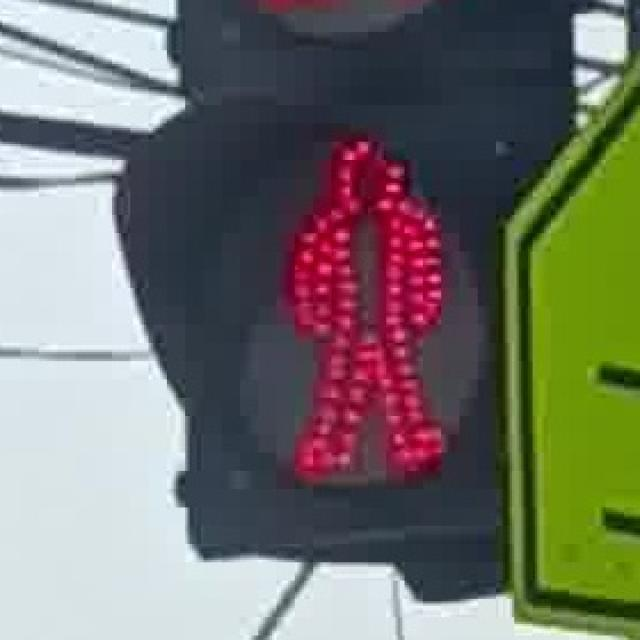red-crossing: (274, 111, 454, 488)
